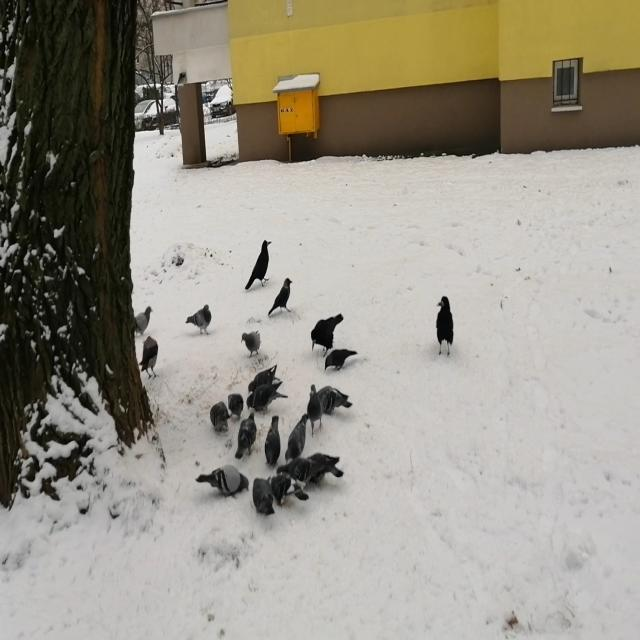bird: (196, 466, 249, 499), (310, 312, 344, 352), (245, 240, 271, 290), (246, 378, 285, 411), (285, 413, 308, 463), (436, 294, 454, 357), (316, 386, 352, 414), (236, 410, 256, 458), (268, 278, 293, 316), (140, 337, 158, 379), (187, 306, 212, 336), (265, 416, 280, 466), (308, 386, 322, 438), (210, 402, 230, 434), (325, 350, 357, 370), (135, 305, 152, 337), (241, 330, 261, 356), (228, 394, 244, 417)
